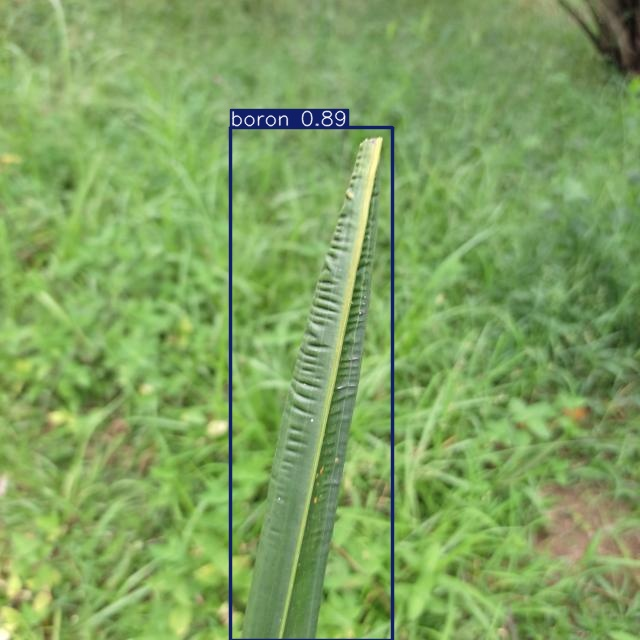nitrogen: (231, 128, 392, 640)
